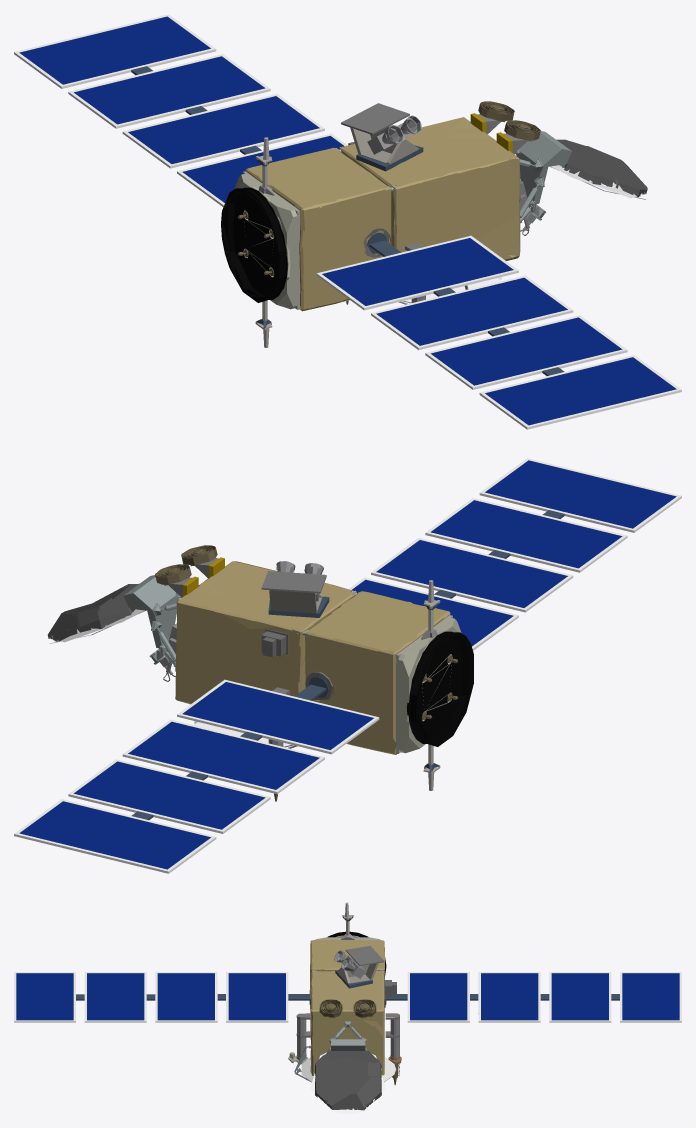
File: satellite.gltf
3 renders of one model, top to bottom at view 1: azimuth 30°, elevation 25°; view 2: azimuth 150°, elevation 25°; view 3: azimuth 270°, elevation 25°, orthographic. The views are drawn at different scales.
Visible parts, largest first — view 1: OSTM_Jason2_Layered_016__Layer31_, OSTM_Jason2_Layered_016___unnamed__, OSTM_Jason2_Layered_016__Layer33_, OSTM_Jason2_Layered_016__Layer9_, OSTM_Jason2_Layered_016__Layer8_, OSTM_Jason2_Layered_016__Layer11_, OSTM_Jason2_Layered_016__Layer36_, OSTM_Jason2_Layered_016__Layer34_, OSTM_Jason2_Layered_016__Layer23_, OSTM_Jason2_Layered_016__Layer25_, OSTM_Jason2_Layered_016__Layer22_, OSTM_Jason2_Layered_016__Layer24_ (+2 smaller); view 2: OSTM_Jason2_Layered_016__Layer31_, OSTM_Jason2_Layered_016___unnamed__, OSTM_Jason2_Layered_016__Layer33_, OSTM_Jason2_Layered_016__Layer9_, OSTM_Jason2_Layered_016__Layer8_, OSTM_Jason2_Layered_016__Layer11_, OSTM_Jason2_Layered_016__Layer36_, OSTM_Jason2_Layered_016__Layer34_, OSTM_Jason2_Layered_016__Layer23_, OSTM_Jason2_Layered_016__Layer25_, OSTM_Jason2_Layered_016__Layer22_, OSTM_Jason2_Layered_016__Layer10_ (+2 smaller); view 3: OSTM_Jason2_Layered_016__Layer31_, OSTM_Jason2_Layered_016___unnamed__, OSTM_Jason2_Layered_016__Layer33_, OSTM_Jason2_Layered_016__Layer36_, OSTM_Jason2_Layered_016__Layer11_, OSTM_Jason2_Layered_016__Layer25_, OSTM_Jason2_Layered_016__Layer34_, OSTM_Jason2_Layered_016__Layer13_, OSTM_Jason2_Layered_016__Layer10_, OSTM_Jason2_Layered_016__Layer23_, OSTM_Jason2_Layered_016__Layer24_, OSTM_Jason2_Layered_016__Layer22_.
Part boxes in pixels (<box>): OSTM_Jason2_Layered_016__Layer31_: <box>19,16,676,425</box>; OSTM_Jason2_Layered_016___unnamed__: <box>245,117,520,311</box>; OSTM_Jason2_Layered_016__Layer33_: <box>14,14,681,429</box>; OSTM_Jason2_Layered_016__Layer9_: <box>221,187,287,302</box>; OSTM_Jason2_Layered_016__Layer8_: <box>234,171,300,309</box>; OSTM_Jason2_Layered_016__Layer11_: <box>398,131,571,304</box>; OSTM_Jason2_Layered_016__Layer36_: <box>556,139,647,197</box>; OSTM_Jason2_Layered_016__Layer34_: <box>131,66,564,375</box>; OSTM_Jason2_Layered_016__Layer23_: <box>341,103,409,134</box>; OSTM_Jason2_Layered_016__Layer25_: <box>478,101,540,140</box>; OSTM_Jason2_Layered_016__Layer22_: <box>350,125,418,164</box>; OSTM_Jason2_Layered_016__Layer24_: <box>259,115,421,195</box>; OSTM_Jason2_Layered_016__Layer31_: <box>19,460,676,869</box>; OSTM_Jason2_Layered_016___unnamed__: <box>175,561,450,754</box>; OSTM_Jason2_Layered_016__Layer33_: <box>14,458,681,873</box>; OSTM_Jason2_Layered_016__Layer9_: <box>406,631,473,746</box>; OSTM_Jason2_Layered_016__Layer8_: <box>396,615,461,753</box>; OSTM_Jason2_Layered_016__Layer11_: <box>123,575,296,748</box>; OSTM_Jason2_Layered_016__Layer36_: <box>47,584,138,642</box>; OSTM_Jason2_Layered_016__Layer34_: <box>131,510,564,820</box>; OSTM_Jason2_Layered_016__Layer23_: <box>261,571,326,593</box>; OSTM_Jason2_Layered_016__Layer25_: <box>155,545,217,584</box>; OSTM_Jason2_Layered_016__Layer22_: <box>269,590,322,613</box>; OSTM_Jason2_Layered_016__Layer10_: <box>49,609,293,747</box>; OSTM_Jason2_Layered_016__Layer31_: <box>16,973,679,1020</box>; OSTM_Jason2_Layered_016___unnamed__: <box>310,939,384,1075</box>; OSTM_Jason2_Layered_016__Layer33_: <box>14,972,681,1022</box>; OSTM_Jason2_Layered_016__Layer36_: <box>315,1050,381,1110</box>; OSTM_Jason2_Layered_016__Layer11_: <box>294,1021,396,1082</box>; OSTM_Jason2_Layered_016__Layer25_: <box>319,999,376,1017</box>; OSTM_Jason2_Layered_016__Layer34_: <box>76,990,619,1004</box>; OSTM_Jason2_Layered_016__Layer13_: <box>297,1018,399,1057</box>; OSTM_Jason2_Layered_016__Layer10_: <box>301,1052,395,1113</box>; OSTM_Jason2_Layered_016__Layer23_: <box>345,946,384,965</box>; OSTM_Jason2_Layered_016__Layer24_: <box>334,934,365,978</box>; OSTM_Jason2_Layered_016__Layer22_: <box>337,958,378,983</box>.
Size of the model in its own units: 982 by 537 by 2249.
